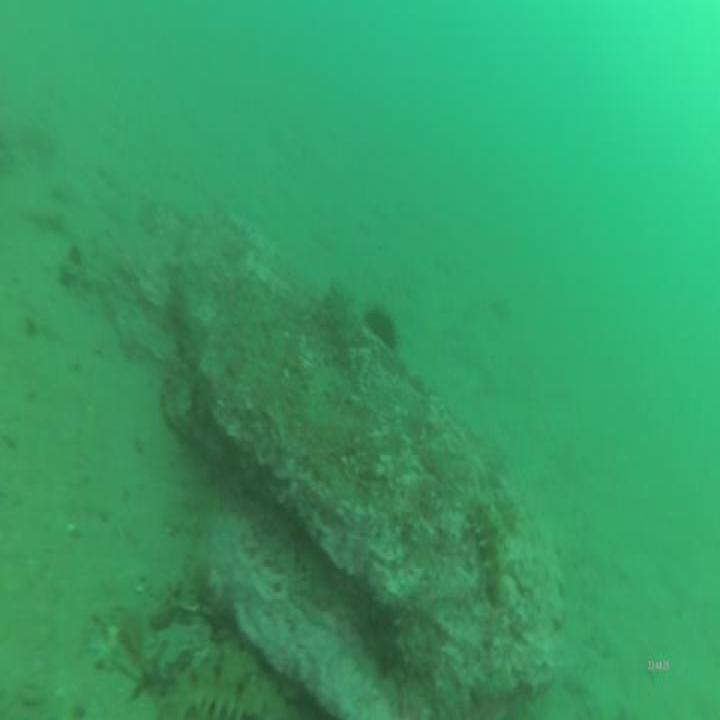echinus: (359, 297, 402, 355)
holothurian: (164, 633, 317, 720), (467, 494, 514, 619), (320, 274, 371, 380)
